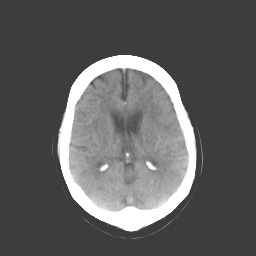ischemic: (151, 106, 183, 138)
